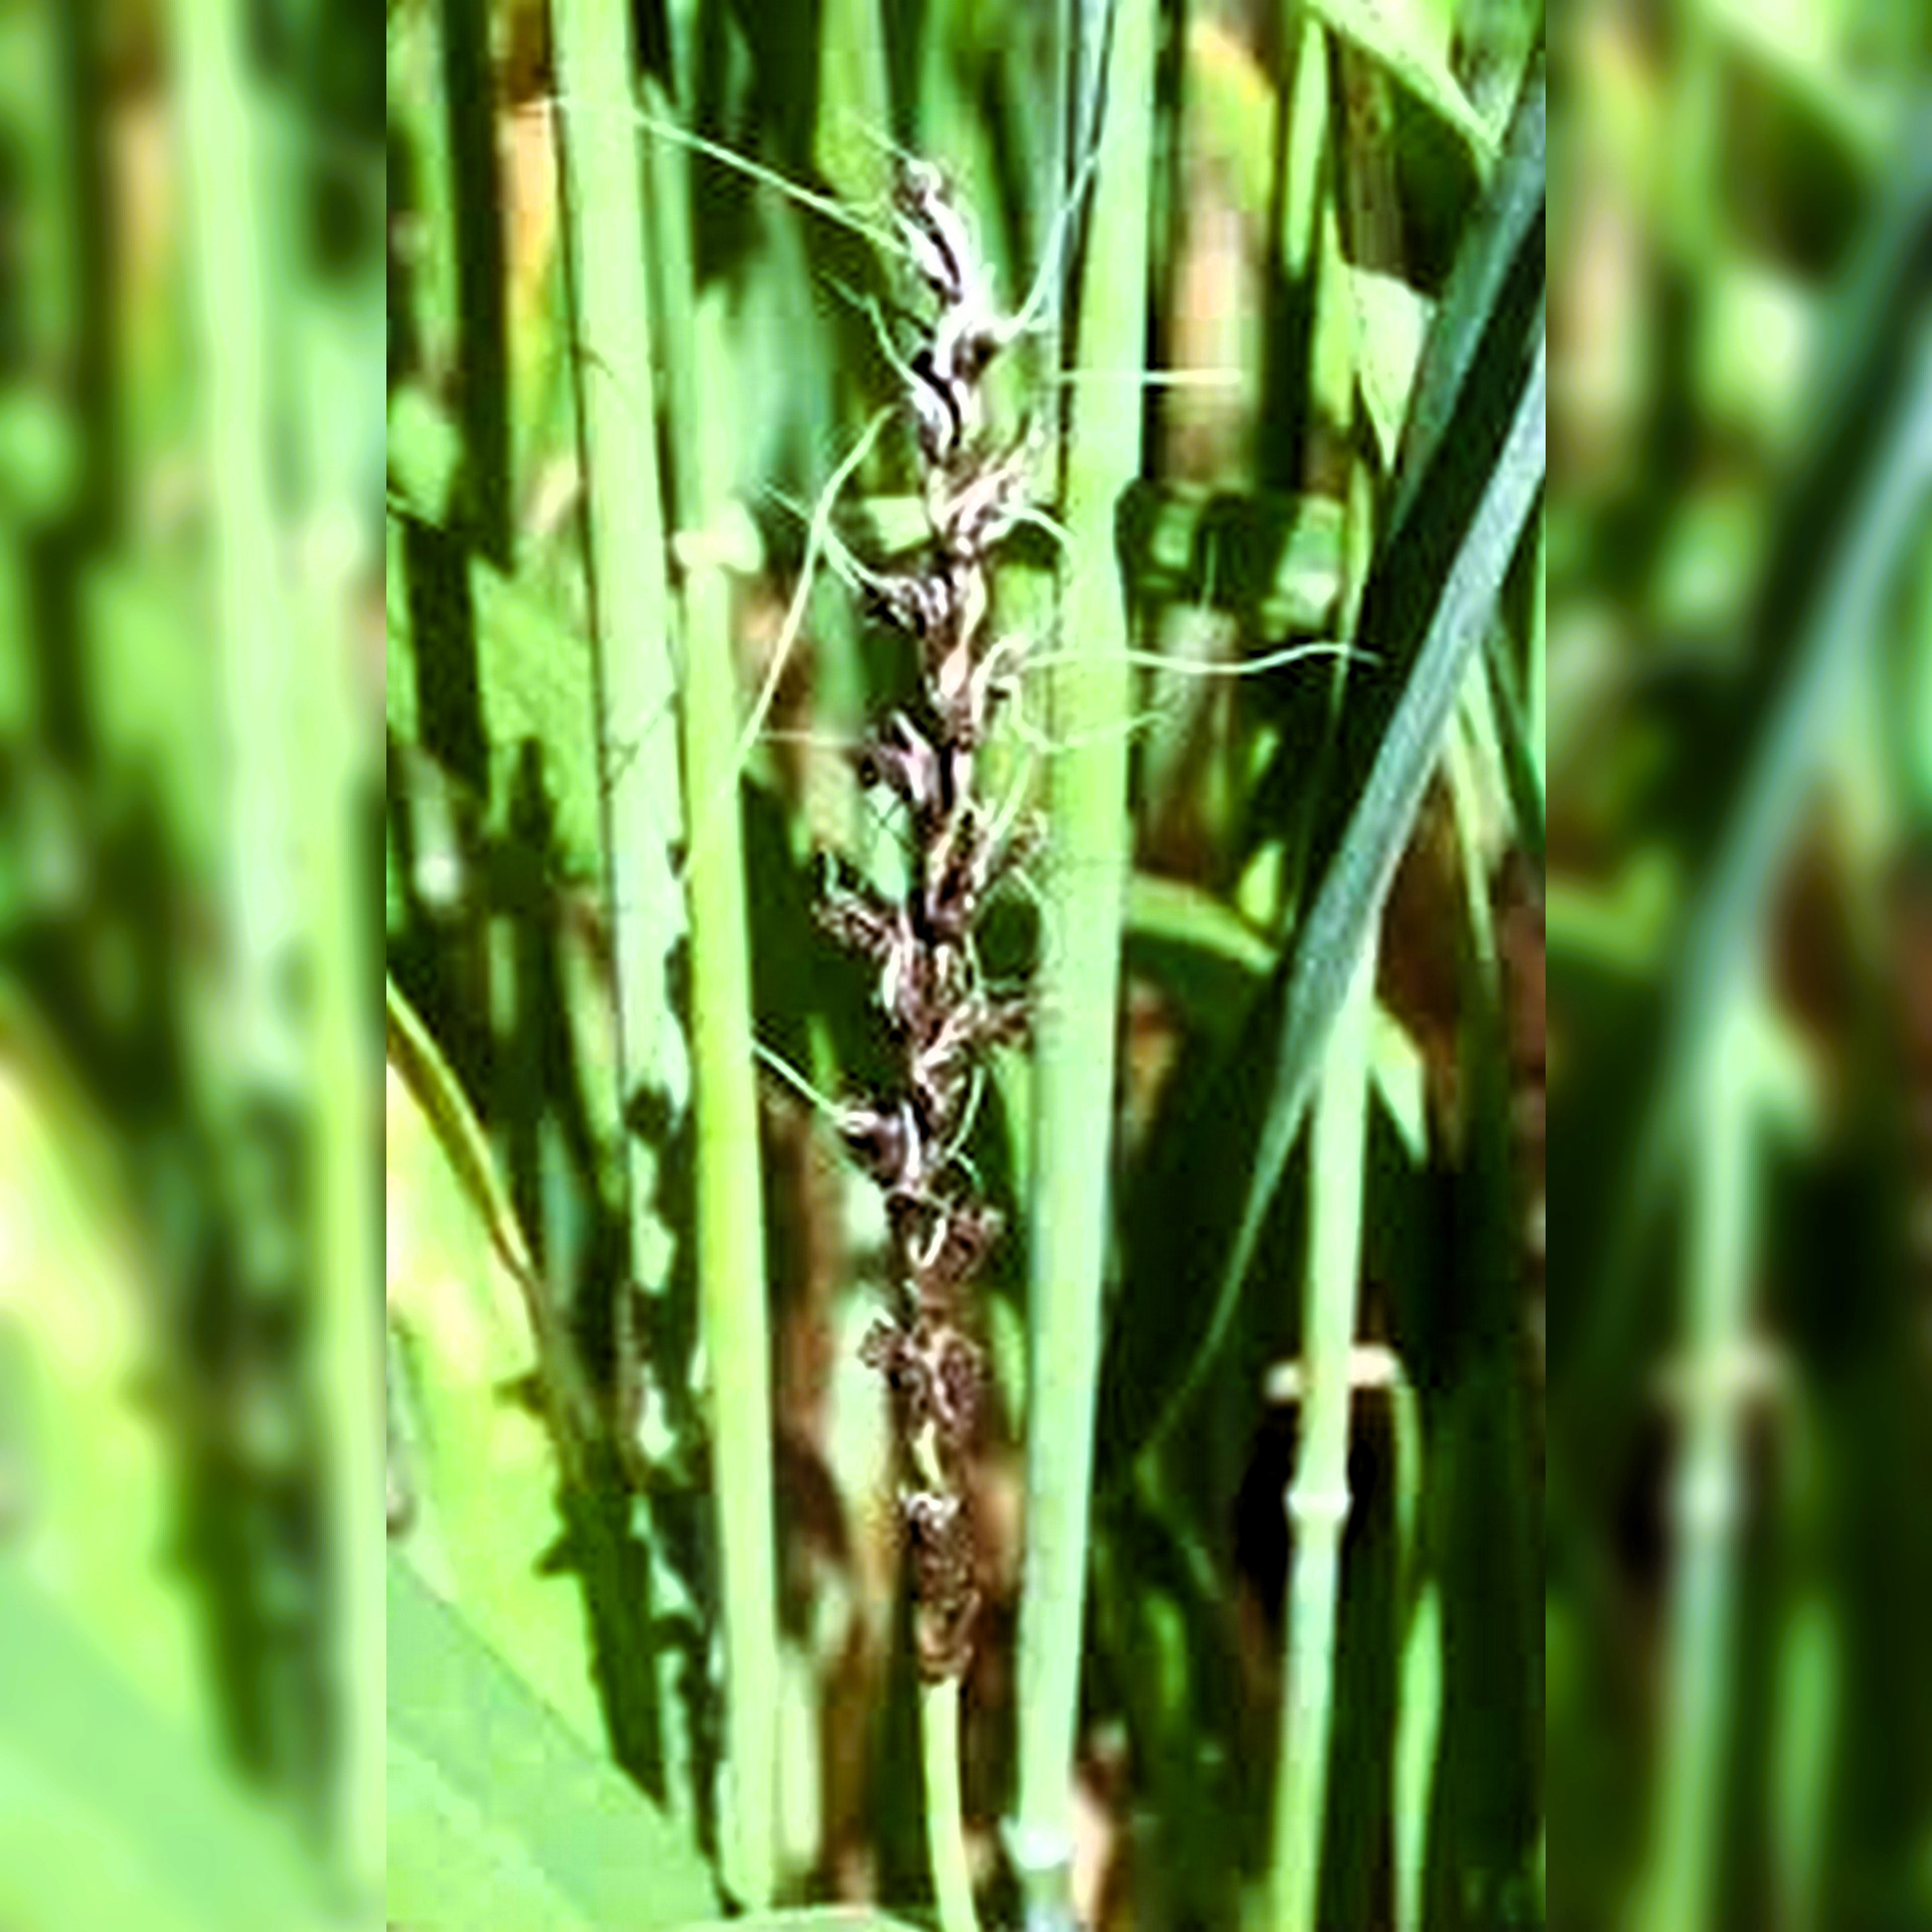Wheat Loose Smut: (736, 203, 1099, 1568)
